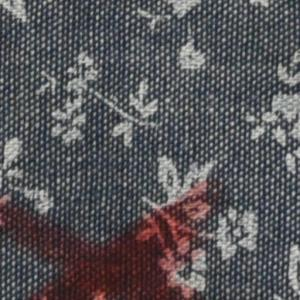Stain: (1, 175, 236, 300)
